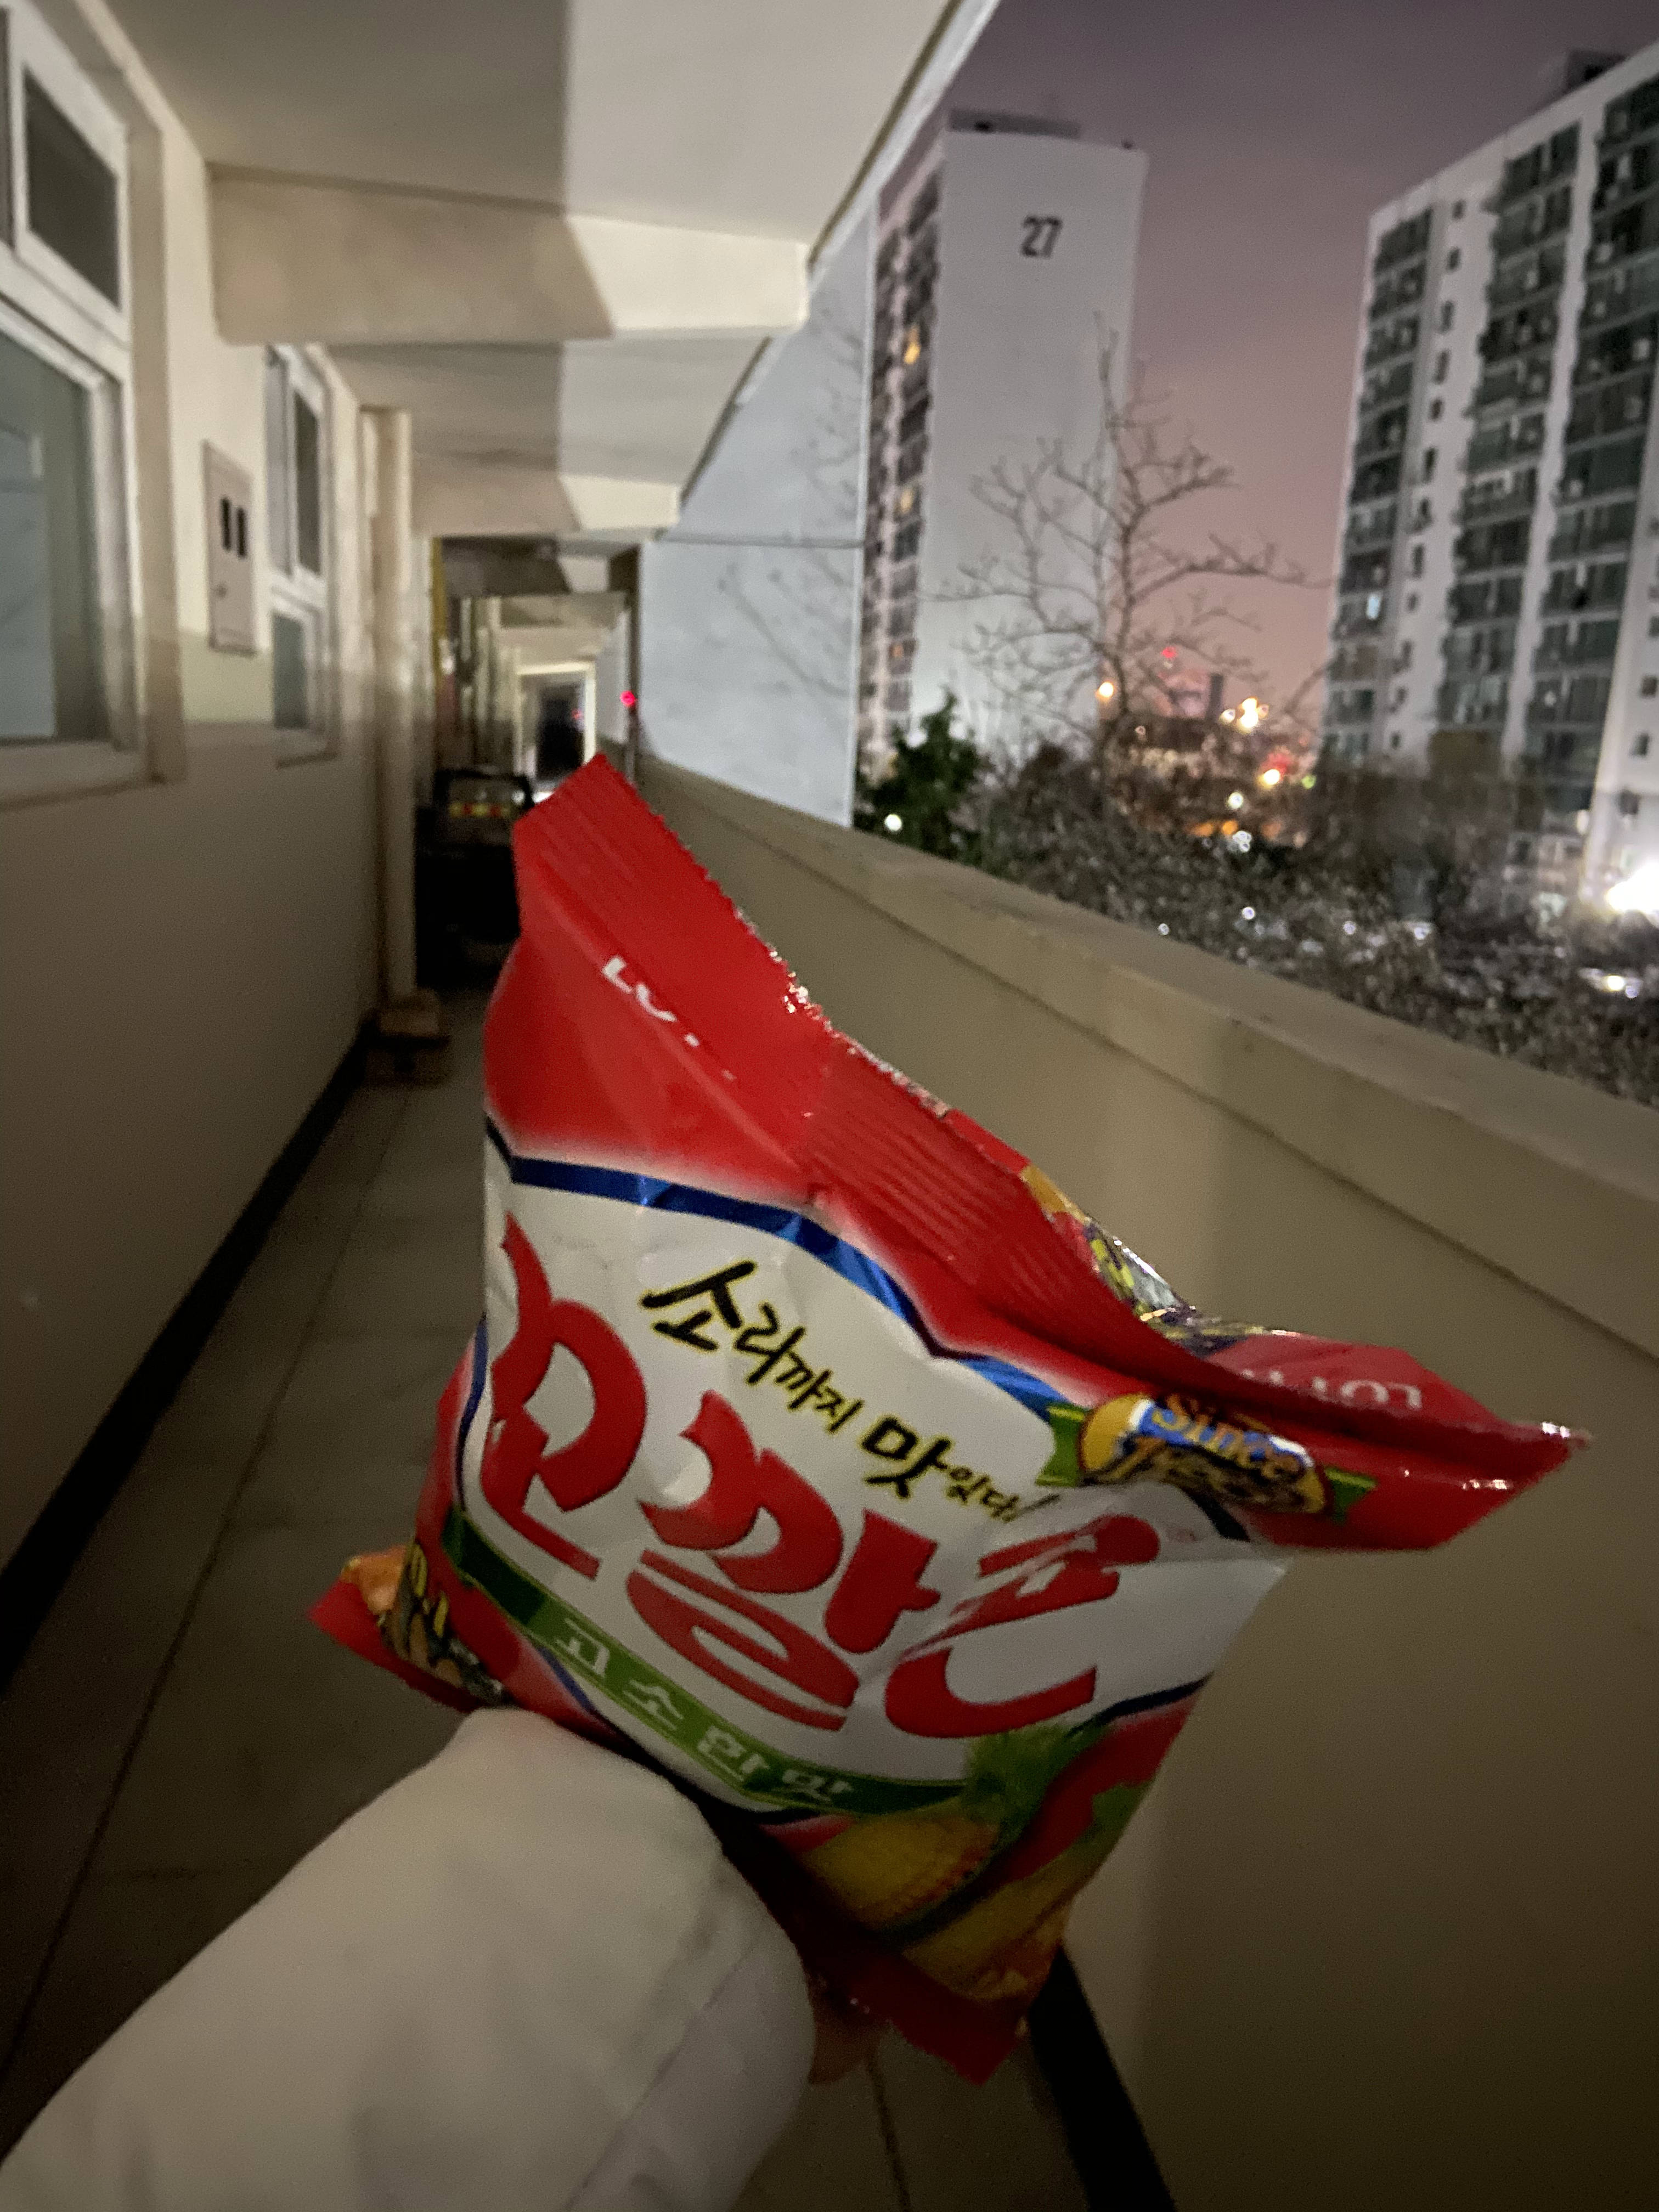ggoggalcon: (296, 751, 1596, 2092)
